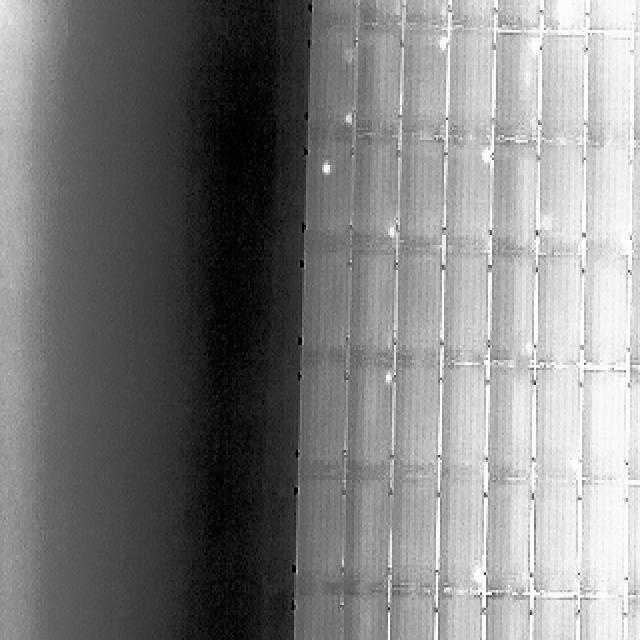Hotspots: (611, 371, 630, 399), (470, 561, 488, 590), (320, 152, 340, 176), (338, 110, 356, 136), (616, 226, 632, 254), (528, 36, 544, 63), (379, 368, 398, 389), (383, 217, 396, 243), (479, 146, 494, 167), (432, 25, 448, 44), (568, 456, 583, 476)
PV-modules: (293, 480, 348, 599), (438, 249, 491, 367), (343, 362, 395, 481), (483, 364, 534, 484), (392, 364, 444, 481), (438, 470, 489, 589), (394, 248, 446, 364), (578, 485, 630, 601), (580, 146, 631, 263), (481, 483, 532, 600), (341, 480, 391, 599), (488, 142, 540, 256), (296, 364, 347, 480), (532, 368, 583, 484), (530, 483, 580, 600), (536, 142, 585, 261), (580, 369, 630, 485), (582, 255, 632, 370), (485, 251, 536, 363), (389, 480, 440, 592), (534, 254, 584, 368), (582, 32, 631, 148), (349, 138, 398, 254), (307, 139, 356, 255), (441, 140, 490, 255), (436, 367, 486, 479), (538, 33, 588, 144), (348, 250, 397, 363), (490, 32, 540, 142), (444, 30, 493, 141), (301, 251, 350, 362), (399, 141, 447, 254), (402, 25, 449, 139), (312, 30, 360, 140), (354, 26, 401, 137), (386, 587, 438, 640), (294, 590, 346, 640), (434, 592, 486, 640), (478, 592, 530, 640), (340, 592, 390, 640), (528, 595, 580, 640), (576, 595, 626, 640), (622, 367, 640, 485), (624, 485, 640, 600), (624, 255, 640, 367), (310, 0, 361, 33), (586, 0, 636, 32), (541, 0, 589, 33), (626, 35, 640, 147), (493, 0, 541, 32), (446, 0, 496, 30), (628, 145, 640, 263), (402, 0, 448, 28), (356, 0, 402, 28), (624, 597, 640, 640), (628, 0, 640, 38)
